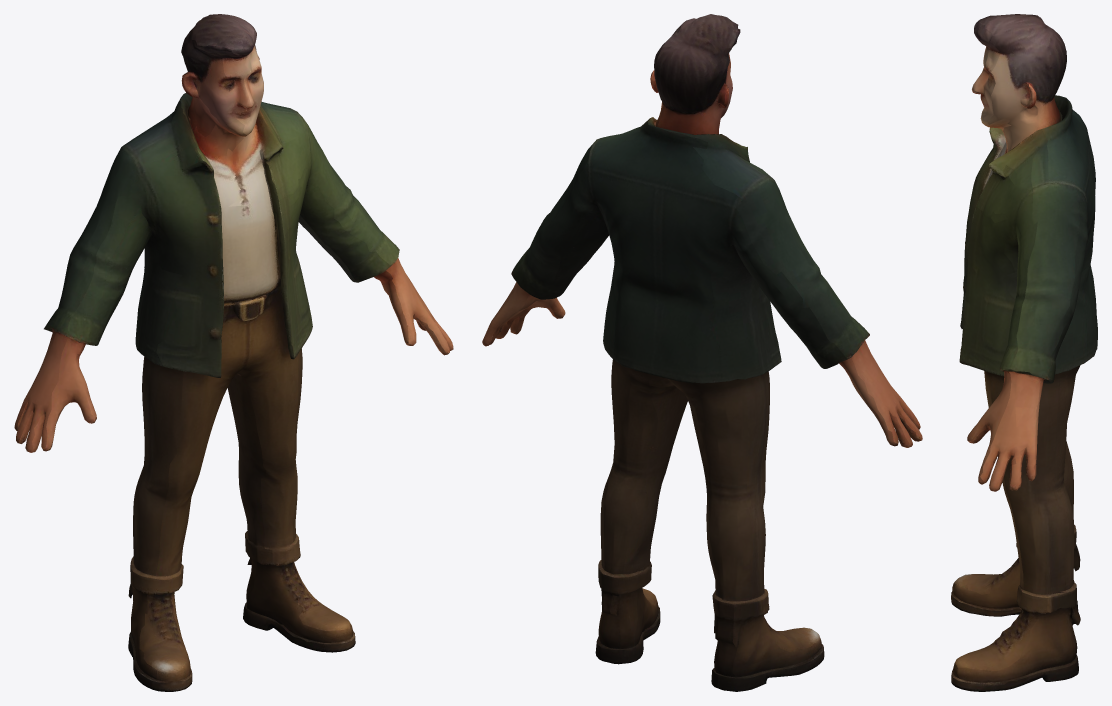
The model's file is citizen_male.glb.
The picture shows the model from 3 angles, left to right: view 1: azimuth 30°, elevation 25°; view 2: azimuth 150°, elevation 25°; view 3: azimuth 270°, elevation 25°; orthographic projection.
Visible parts, largest first — view 1: citizenBody; view 2: citizenBody; view 3: citizenBody.
Boxes of the visible parts, x1,y1,x2,y2 form: citizenBody: [14, 14, 453, 691]; citizenBody: [482, 14, 922, 691]; citizenBody: [951, 14, 1097, 691].
Size of the model in its own units: 1.24 by 1.75 by 0.3733.
1 material, 1 textured.
